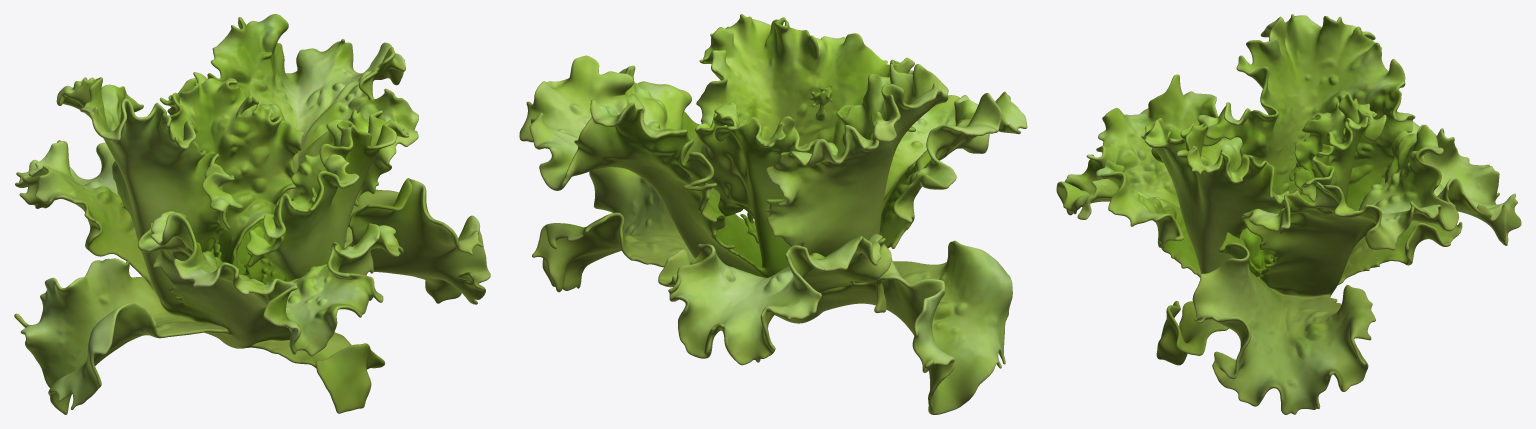
The model's file is olmetie_vegetative.glb.
The picture shows the model from 3 angles, left to right: view 1: azimuth 30°, elevation 25°; view 2: azimuth 150°, elevation 25°; view 3: azimuth 270°, elevation 25°; orthographic projection. The views are drawn at different scales.
Visible parts, largest first — view 1: tripo_node_054a0878-d92e-4192-b93d-d5cc88bc7b6a; view 2: tripo_node_054a0878-d92e-4192-b93d-d5cc88bc7b6a; view 3: tripo_node_054a0878-d92e-4192-b93d-d5cc88bc7b6a.
Boxes of the visible parts, <box> form: tripo_node_054a0878-d92e-4192-b93d-d5cc88bc7b6a: <box>14,14,490,414</box>; tripo_node_054a0878-d92e-4192-b93d-d5cc88bc7b6a: <box>519,14,1027,414</box>; tripo_node_054a0878-d92e-4192-b93d-d5cc88bc7b6a: <box>1056,14,1521,414</box>.
Bounding box in the file's own units: 0.9196 × 0.6633 × 1.
1 material, 1 textured.
